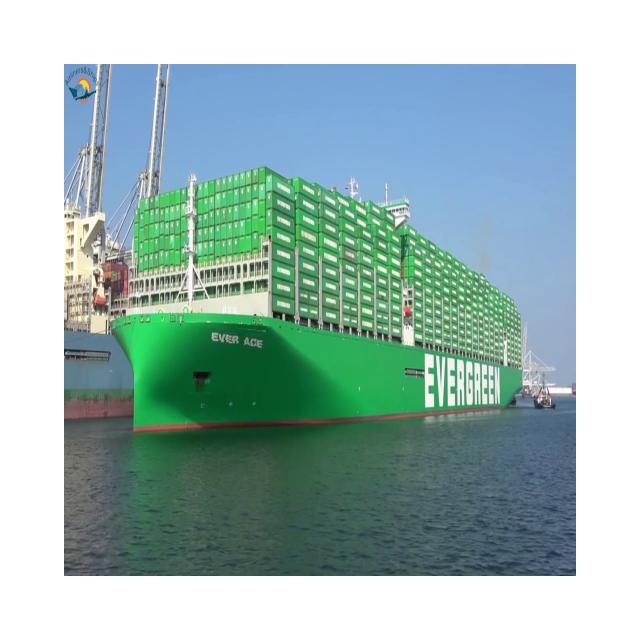OCR: (203, 324, 266, 354)
